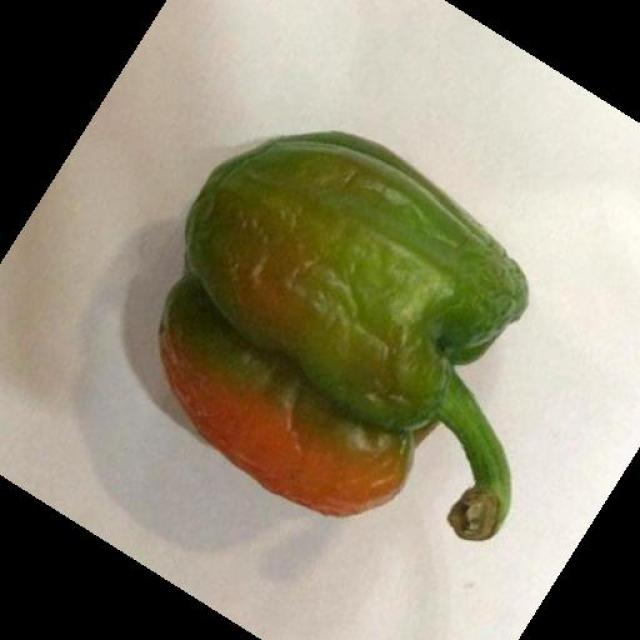Stale_Capsicum: (139, 121, 525, 531)
